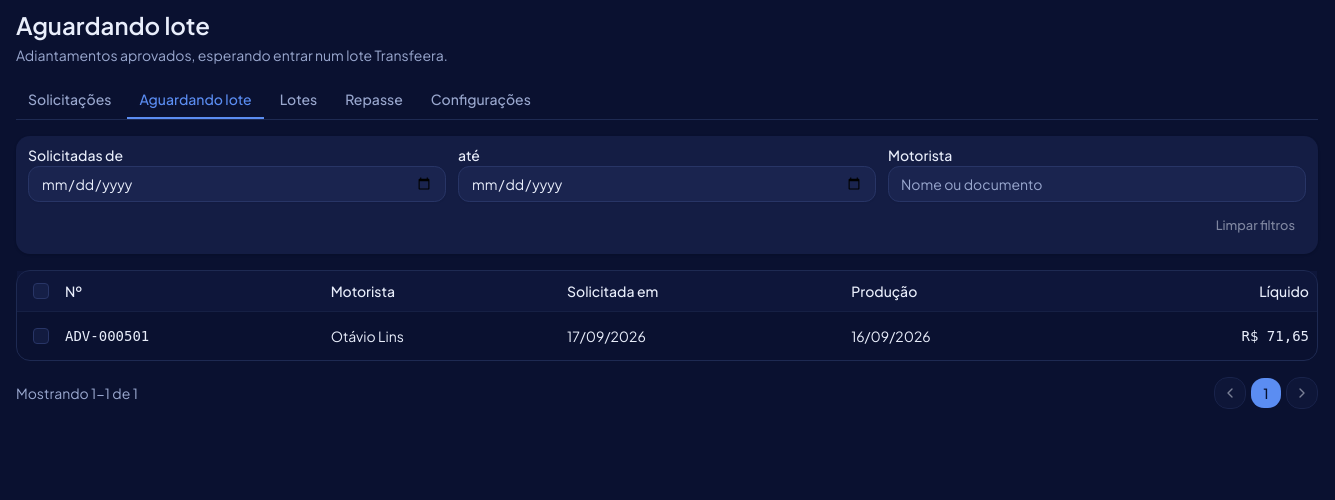
Test case: AdiantamentosPagamentosPage › 7.6.1: selecionar um item mostra a barra de seleção com a contagem (sem somar valores no cliente)
Click the checkbox named "Selecionar ADV-000501" at (41, 336), box x1=33 y1=328 x2=49 y2=344
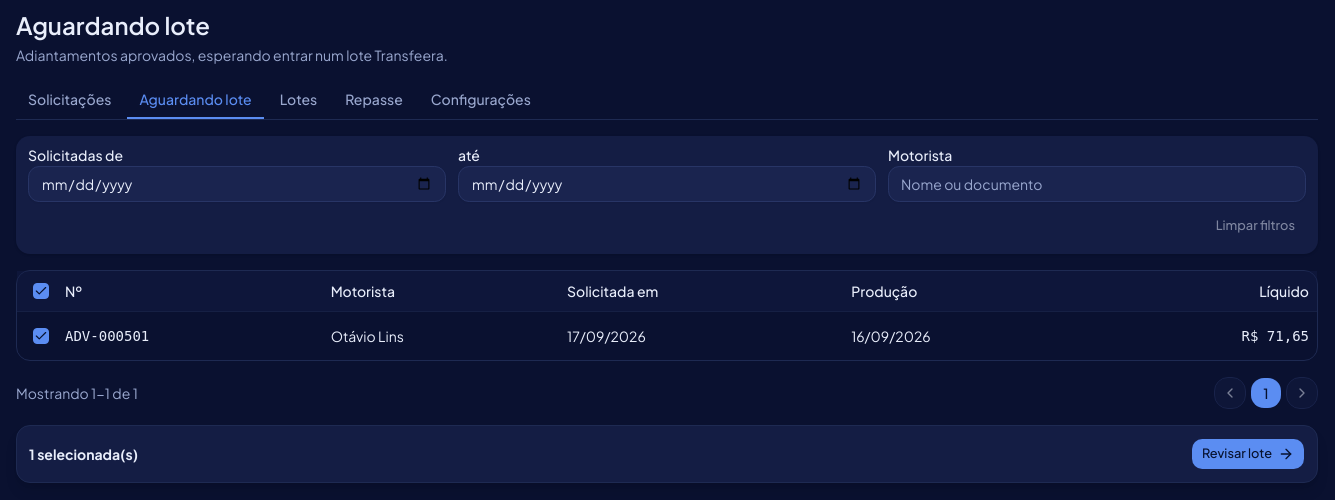
Expected: the text "1 selecionada(s)" is shown, x1=29 y1=444 x2=138 y2=462
